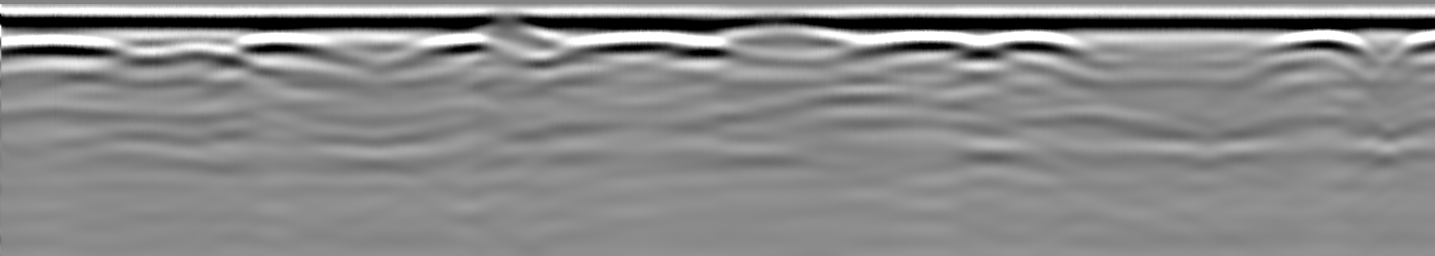pipe: (429, 11, 576, 54), (714, 16, 863, 53)
steel: (853, 30, 1105, 68), (179, 30, 357, 70), (552, 30, 733, 63), (1242, 30, 1388, 69), (1, 31, 129, 68)
